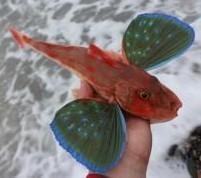fish: (6, 12, 195, 174)
